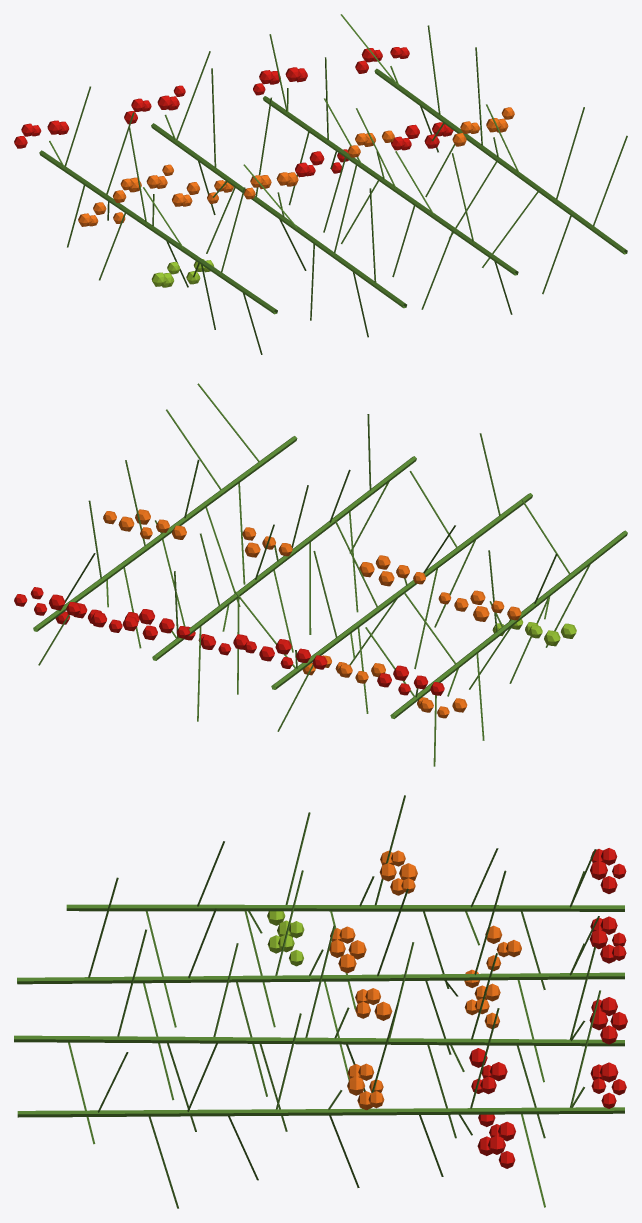
The model's file is r13c1_stems.obj.
3 views of the same model, one above another, from view 1: azimuth 30°, elevation 25°; view 2: azimuth 150°, elevation 25°; view 3: azimuth 270°, elevation 25° (orthographic). The views are drawn at different scales.
Parts seen in each view (by area): view 1: r13c1_stems; view 2: r13c1_stems; view 3: r13c1_stems.
Part boxes in pixels (bbox=[...]): r13c1_stems: bbox=[14, 14, 627, 354]; r13c1_stems: bbox=[14, 383, 627, 766]; r13c1_stems: bbox=[14, 795, 627, 1208].
Size of the model in its own units: 2.08 by 0.8604 by 2.12.
